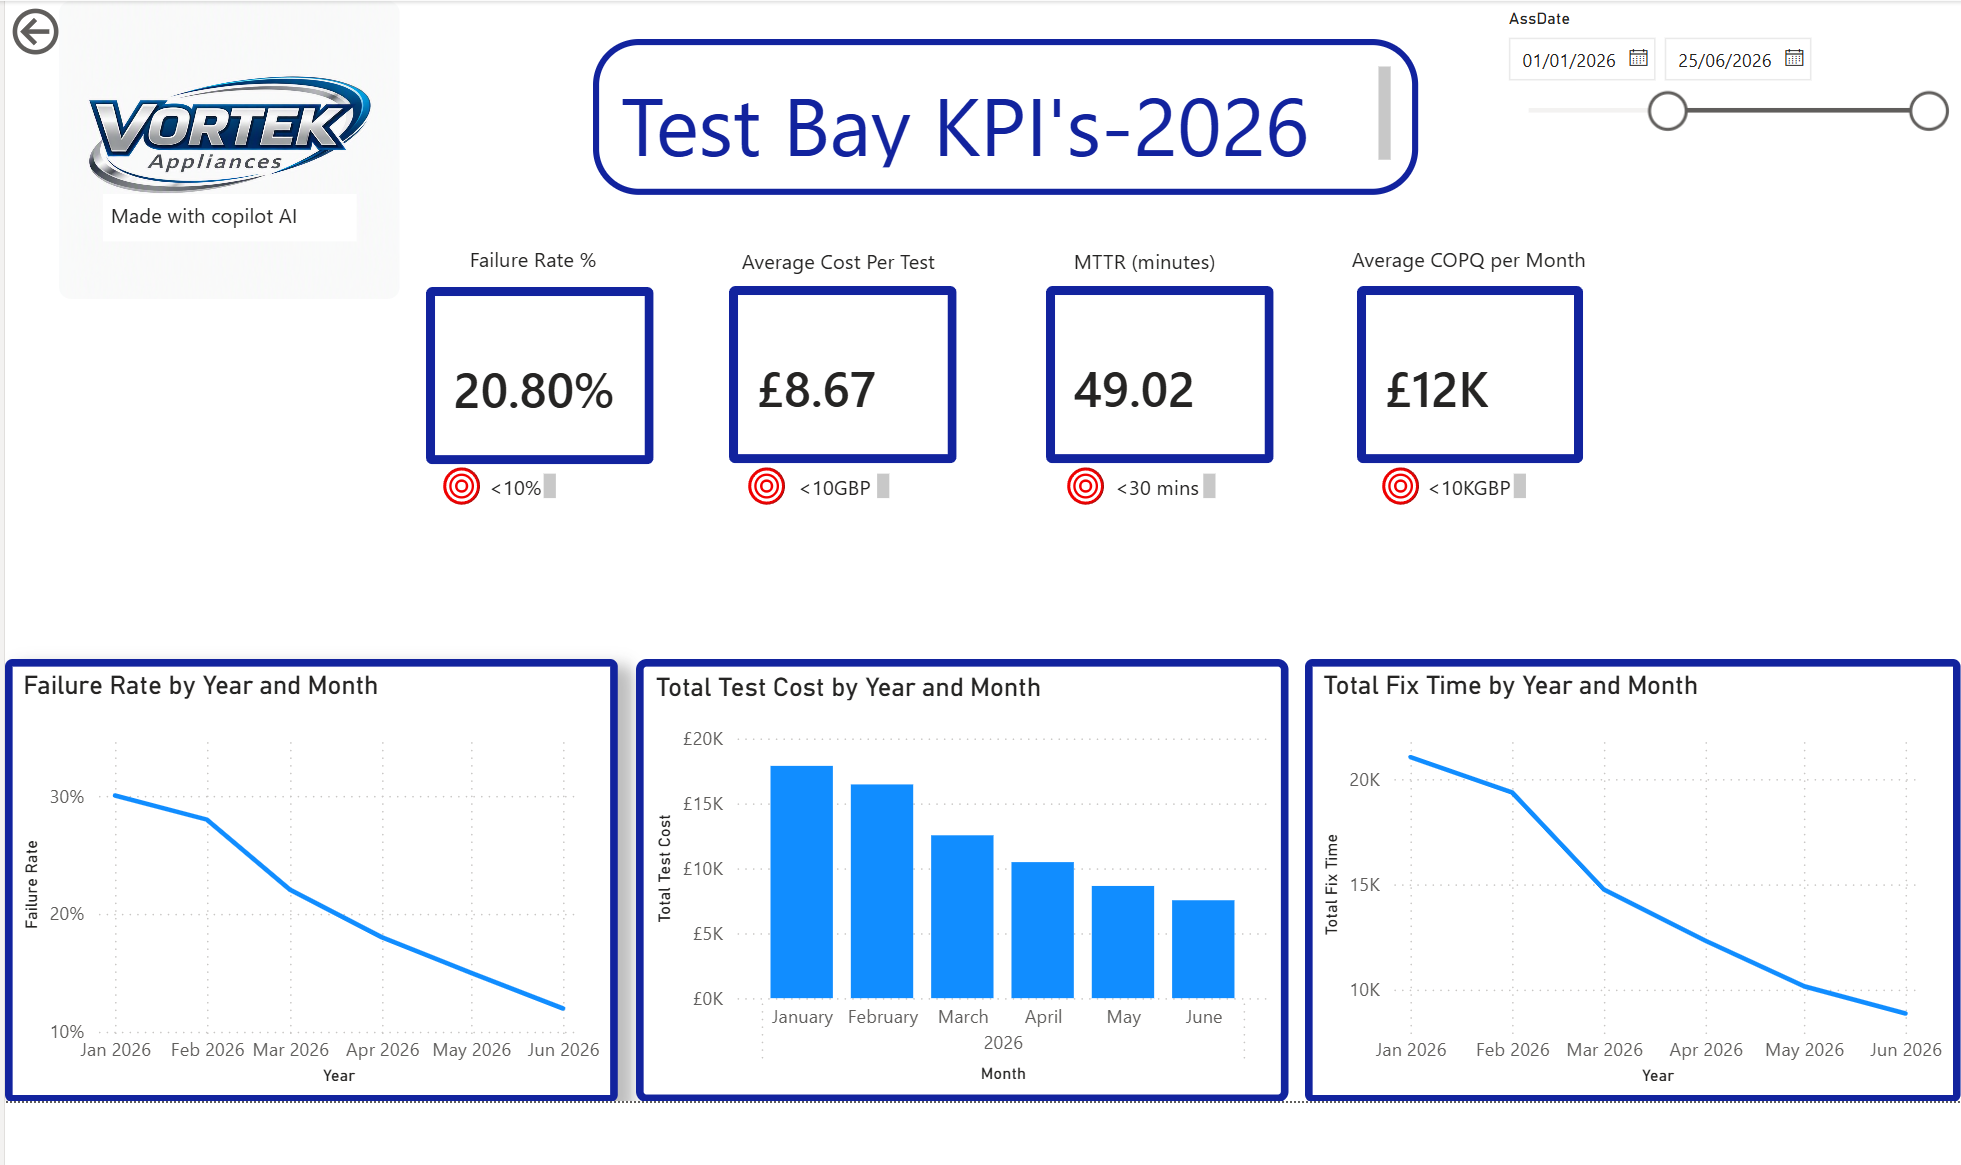

Layout of this report page (visuals, bound fields, positions):
{"tool":"powerbi","page":{"name":"Main KPI's","canvas":[1280,720],"ordinal":0},"visuals":[{"type":"cardVisual","fields":{"Data":["datamanufacturing manufacture data clean final.Failure Rate"]},"box":[258.6,170.3,183.6,150.9],"z":0},{"type":"actionButton","box":[0,0,100,40],"z":1000},{"type":"slicer","fields":{"Values":["datamanufacturing manufacture data clean final.AssDate"]},"box":[971.3,0,309.4,98],"z":2000},{"type":"textbox","box":[384.5,25,539.5,101.5],"z":3000},{"type":"image","box":[35.5,0,223.2,195.4],"z":4000},{"type":"textbox","box":[64,126.5,166.2,31.3],"z":5000},{"type":"cardVisual","fields":{"Data":["datamanufacturing manufacture data clean final.MTTR"]},"box":[664,169.6,183.6,150.9],"z":6000},{"type":"cardVisual","fields":{"Data":["datamanufacturing manufacture data clean final.Average Cost Per Test"]},"box":[456.8,169.6,183.6,150.9],"z":7000},{"type":"cardVisual","fields":{"Data":["datamanufacturing manufacture data clean final.Averagee Cost of tests Per Month"]},"box":[867.7,169.6,182.2,150.9],"z":8000},{"type":"textbox","box":[299,155,102.2,29.2],"z":9000},{"type":"textbox","box":[477,156.4,143.2,29.2],"z":10000},{"type":"textbox","box":[694.6,156.4,121.7,29.2],"z":11000},{"type":"textbox","box":[876,155,173.8,29.2],"z":12000},{"type":"lineChart","fields":{"Y":["datamanufacturing manufacture data clean final.Failure Rate"],"Category":["datamanufacturing manufacture data clean final.TestDate.Variation.Date Hierarchy.Year","datamanufacturing manufacture data clean final.TestDate.Variation.Date Hierarchy.Month"]},"box":[0,430.4,401.2,289.9],"z":13000},{"type":"clusteredColumnChart","fields":{"Y":["datamanufacturing manufacture data clean final.Total Test Cost"],"Category":["datamanufacturing manufacture data clean final.TestDate.Variation.Date Hierarchy.Year","datamanufacturing manufacture data clean final.TestDate.Variation.Date Hierarchy.Month"]},"box":[413,430.4,426.9,289.9],"z":14000},{"type":"lineChart","fields":{"Y":["datamanufacturing manufacture data clean final.Total Fix Time"],"Category":["datamanufacturing manufacture data clean final.TestDate.Variation.Date Hierarchy.Year","datamanufacturing manufacture data clean final.TestDate.Variation.Date Hierarchy.Month"]},"box":[851,430.4,429,289.9],"z":15000},{"type":"image","box":[272.5,304.5,52.8,26.4],"z":16000},{"type":"image","box":[472.1,304.5,52.8,26.4],"z":17000},{"type":"image","box":[680.7,304.5,52.8,26.4],"z":18000},{"type":"image","box":[886.5,304.5,52.8,26.4],"z":19000},{"type":"textbox","box":[311.5,304.5,53.5,26.4],"z":20000},{"type":"textbox","box":[513.8,304.5,69.5,26.4],"z":21000},{"type":"textbox","box":[721,304.5,75.8,26.4],"z":22000},{"type":"textbox","box":[925.4,304.5,75.1,26.4],"z":23000}]}

Visuals, with their boxes on the page's 1280x720 design canvas (x1, y1, x2, y2). These are canvas units, not pixel positions in the 1961x1165 screenshot, which may show the page scaled, cropped or inside an application window:
cardVisual - datamanufacturing manufacture data clean final.Failure Rate: pyautogui.locateOnScreen(259, 170, 442, 321)
actionButton: pyautogui.locateOnScreen(0, 0, 100, 40)
slicer - datamanufacturing manufacture data clean final.AssDate: pyautogui.locateOnScreen(971, 0, 1281, 98)
textbox: pyautogui.locateOnScreen(384, 25, 924, 126)
image: pyautogui.locateOnScreen(36, 0, 259, 195)
textbox: pyautogui.locateOnScreen(64, 126, 230, 158)
cardVisual - datamanufacturing manufacture data clean final.MTTR: pyautogui.locateOnScreen(664, 170, 848, 320)
cardVisual - datamanufacturing manufacture data clean final.Average Cost Per Test: pyautogui.locateOnScreen(457, 170, 640, 320)
cardVisual - datamanufacturing manufacture data clean final.Averagee Cost of tests Per Month: pyautogui.locateOnScreen(868, 170, 1050, 320)
textbox: pyautogui.locateOnScreen(299, 155, 401, 184)
textbox: pyautogui.locateOnScreen(477, 156, 620, 186)
textbox: pyautogui.locateOnScreen(695, 156, 816, 186)
textbox: pyautogui.locateOnScreen(876, 155, 1050, 184)
lineChart - datamanufacturing manufacture data clean final.Failure Rate x datamanufacturing manufacture data clean final.TestDate.Variation.Date Hierarchy.Year: pyautogui.locateOnScreen(0, 430, 401, 720)
clusteredColumnChart - datamanufacturing manufacture data clean final.Total Test Cost x datamanufacturing manufacture data clean final.TestDate.Variation.Date Hierarchy.Year: pyautogui.locateOnScreen(413, 430, 840, 720)
lineChart - datamanufacturing manufacture data clean final.Total Fix Time x datamanufacturing manufacture data clean final.TestDate.Variation.Date Hierarchy.Year: pyautogui.locateOnScreen(851, 430, 1280, 720)
image: pyautogui.locateOnScreen(272, 304, 325, 331)
image: pyautogui.locateOnScreen(472, 304, 525, 331)
image: pyautogui.locateOnScreen(681, 304, 734, 331)
image: pyautogui.locateOnScreen(886, 304, 939, 331)
textbox: pyautogui.locateOnScreen(312, 304, 365, 331)
textbox: pyautogui.locateOnScreen(514, 304, 583, 331)
textbox: pyautogui.locateOnScreen(721, 304, 797, 331)
textbox: pyautogui.locateOnScreen(925, 304, 1000, 331)
